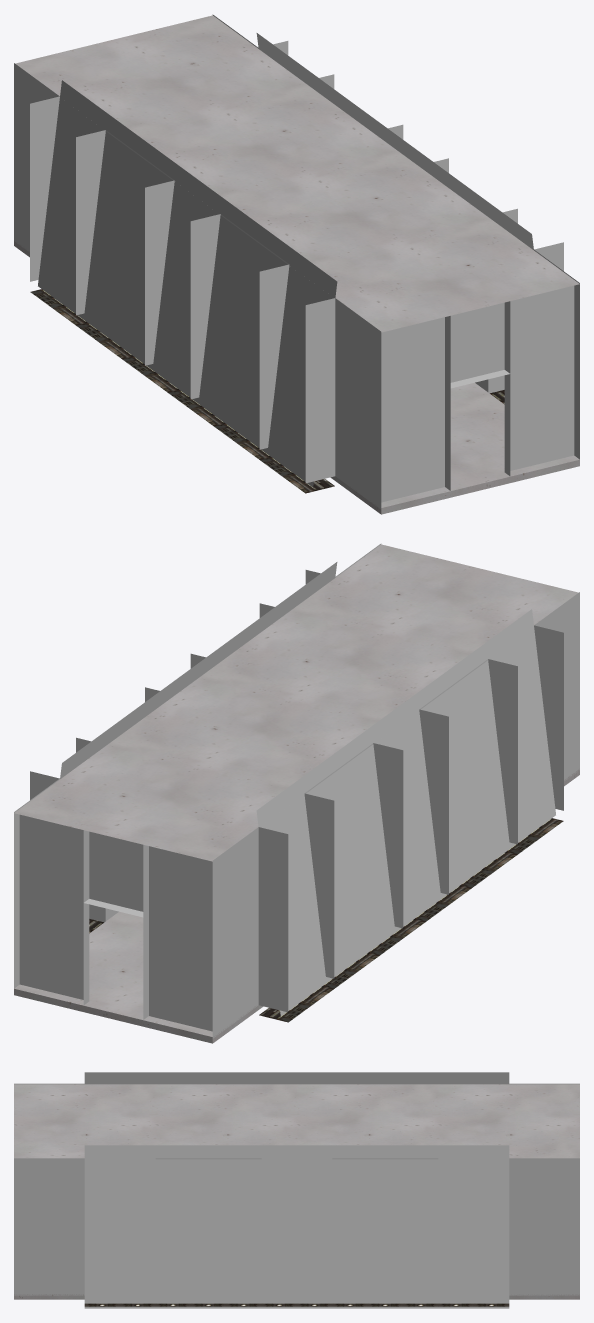
File: LC_room2_2.obj
The picture shows the model from 3 angles, top to bottom: view 1: azimuth 30°, elevation 25°; view 2: azimuth 150°, elevation 25°; view 3: azimuth 270°, elevation 25°; orthographic projection. The views are drawn at different scales.
Visible parts, largest first — view 1: room2_3; view 2: room2_3; view 3: room2_3.
Boxes of the visible parts, x1,y1,x2,y2 form: room2_3: (14,14,579,514); room2_3: (14,543,579,1043); room2_3: (14,1072,579,1308).
Size of the model in its own units: 8.32 by 6.28 by 20.48.
